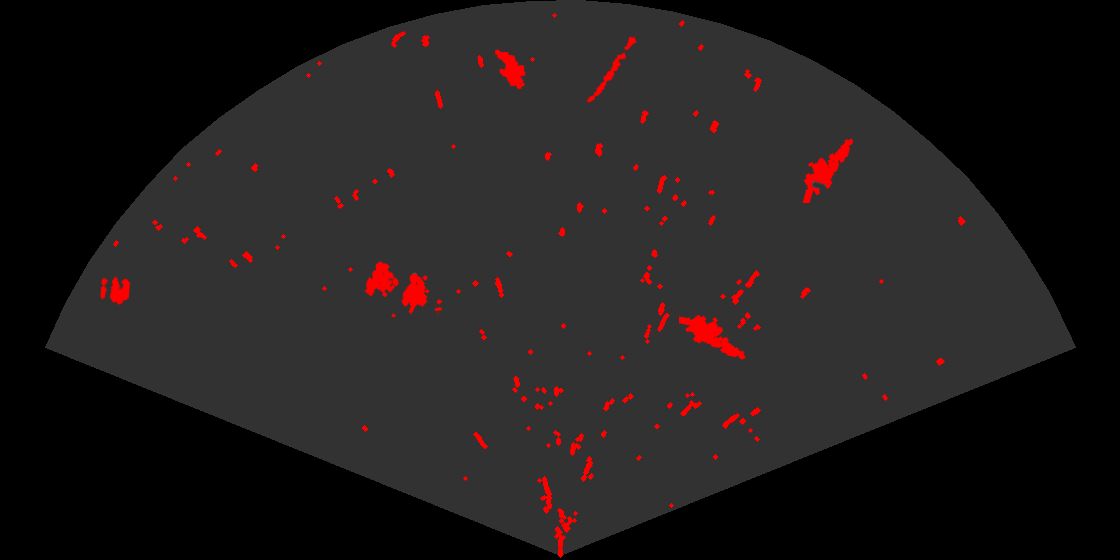AUV: (493, 48, 527, 91)
ball: (98, 275, 132, 306)
cage: (363, 260, 442, 317)
chain: (585, 31, 641, 105)
frogman: (801, 137, 855, 203), (679, 313, 747, 361)
